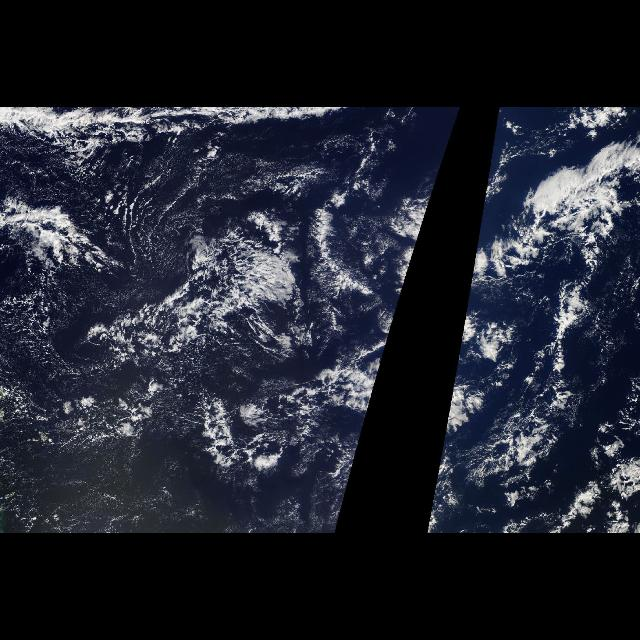Fish: (0, 126, 456, 474), (437, 126, 637, 474)
Sugar: (4, 138, 362, 486)
